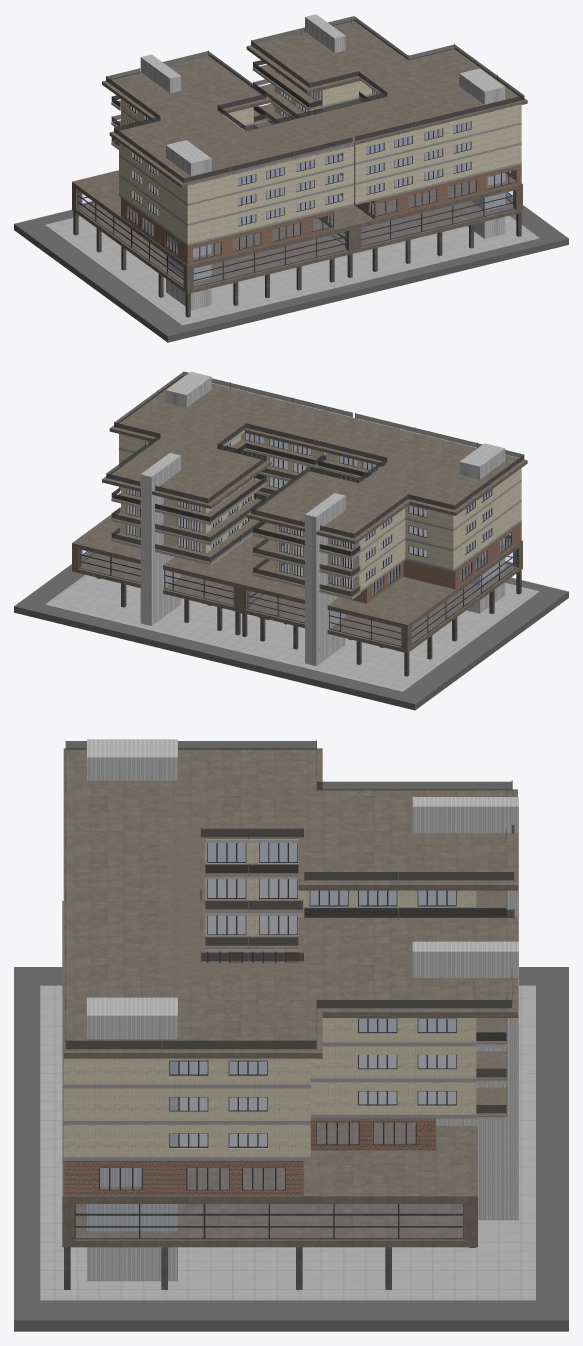
File: modern_villa_apartment_house_home_building-v1.glb
3 views of the same model, one above another, from view 1: azimuth 30°, elevation 25°; view 2: azimuth 150°, elevation 25°; view 3: azimuth 270°, elevation 25° (orthographic). The views are drawn at different scales.
Parts seen in each view (by area): view 1: Line111, Line015, Box001, Box032, Box191, Box016, Object001_04 - Default_0, Line014, Line017, Line107, Line004, Line043 (+5 smaller); view 2: Line111, Box001, Box032, Box016, Box191, Line015, Line017, Line043, Object001_04 - Default_0, Line107, Line014, Line048 (+7 smaller); view 3: Line111, Box191, Box032, Line015, Box001, Box016, Line017, Line004, Line043, Object001_04 - Default_0, Line014, Line107 (+6 smaller).
Part boxes in pixels (x1,y1,x2,y2): Line111: (102, 20, 527, 187); Line015: (119, 70, 521, 243); Box001: (72, 170, 522, 294); Box032: (45, 215, 539, 325); Box191: (14, 192, 568, 342); Box016: (140, 14, 505, 310); Object001_04 - Default_0: (77, 74, 516, 287); Line014: (121, 164, 521, 265); Line017: (111, 64, 408, 148); Line107: (106, 16, 524, 182); Line004: (187, 90, 521, 204); Line043: (112, 27, 386, 146); Line111: (102, 376, 527, 544); Box001: (72, 494, 522, 653); Box032: (45, 574, 539, 691); Box016: (140, 371, 505, 665); Box191: (14, 551, 568, 710); Line015: (119, 432, 521, 591); Line017: (111, 419, 408, 598); Line043: (112, 423, 386, 596); Object001_04 - Default_0: (79, 433, 517, 646); Line107: (106, 371, 524, 538); Line014: (352, 522, 521, 603); Line048: (111, 430, 364, 599); Line111: (63, 748, 517, 1058); Box191: (14, 967, 568, 1331); Box032: (40, 985, 535, 1300); Line015: (63, 843, 476, 1157); Box001: (62, 901, 477, 1247); Box016: (87, 739, 518, 1281); Line017: (170, 827, 507, 1116); Line004: (63, 1019, 475, 1160); Line043: (200, 825, 514, 1113); Object001_04 - Default_0: (74, 843, 463, 1239); Line014: (63, 951, 435, 1195); Line107: (65, 741, 512, 1049).
Size of the model in its own units: 62.71 by 23.26 by 41.66.
Materials: 16 (10 with a texture image).
